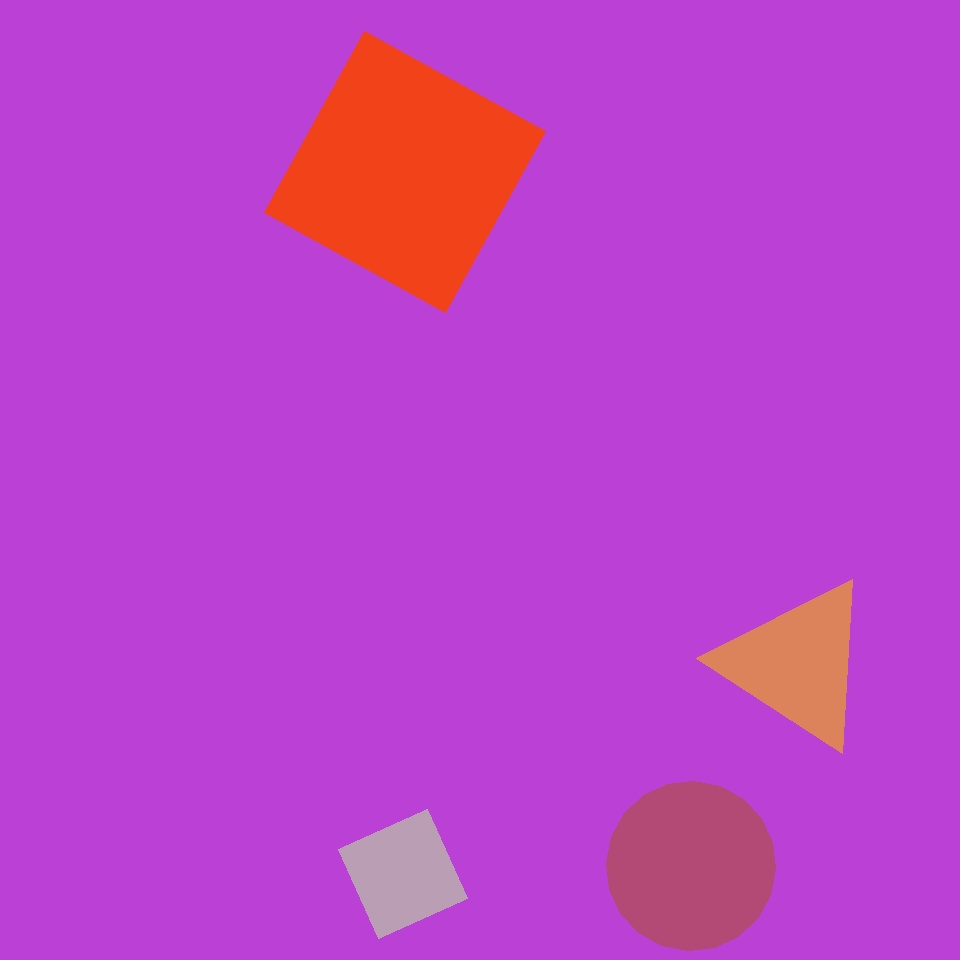circle: (294, 132, 586, 387), (719, 577, 875, 751)
square: (527, 210, 844, 527), (308, 9, 590, 291), (264, 31, 546, 313), (452, 444, 646, 638), (338, 810, 468, 938)
triangle: (606, 782, 776, 950)
